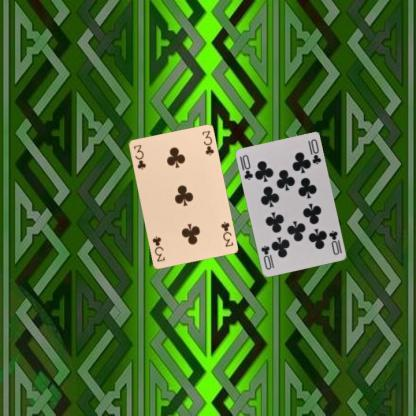10c: (238, 152, 254, 182), (326, 228, 340, 256)
3c: (131, 142, 147, 171), (218, 219, 234, 248)
